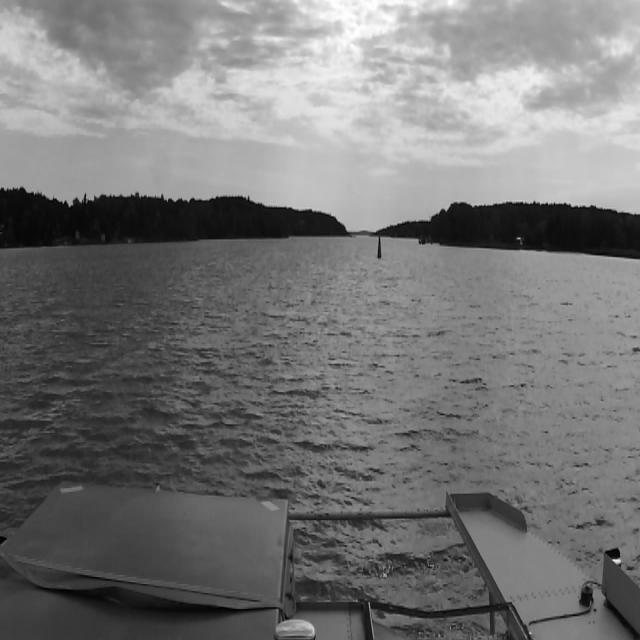buoy: (376, 231, 382, 261)
